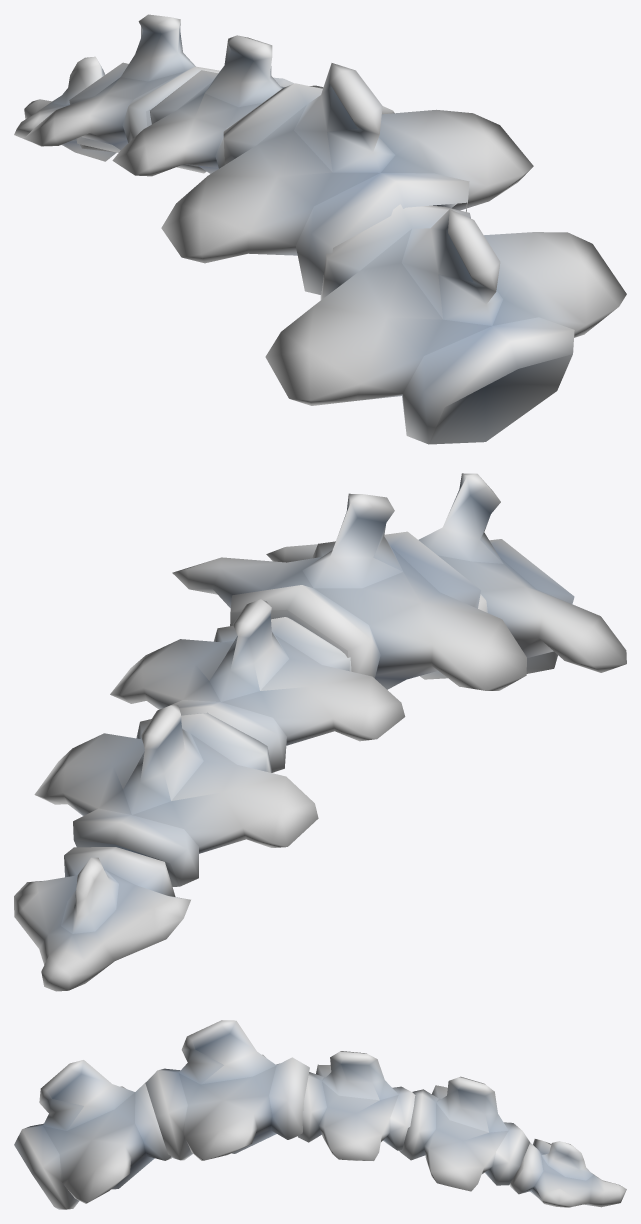
File: Tail.gltf
The picture shows the model from 3 angles, top to bottom: view 1: azimuth 30°, elevation 25°; view 2: azimuth 150°, elevation 25°; view 3: azimuth 270°, elevation 25°; orthographic projection. The views are drawn at different scales.
Visible parts, largest first — view 1: TailMesh; view 2: TailMesh; view 3: TailMesh.
Part boxes in pixels (x1=…): TailMesh: x1=14, y1=14, x2=626, y2=444; TailMesh: x1=14, y1=473, x2=626, y2=991; TailMesh: x1=14, y1=1020, x2=626, y2=1209.
Bounding box in the file's own units: 2.24 × 1.76 × 5.31.
